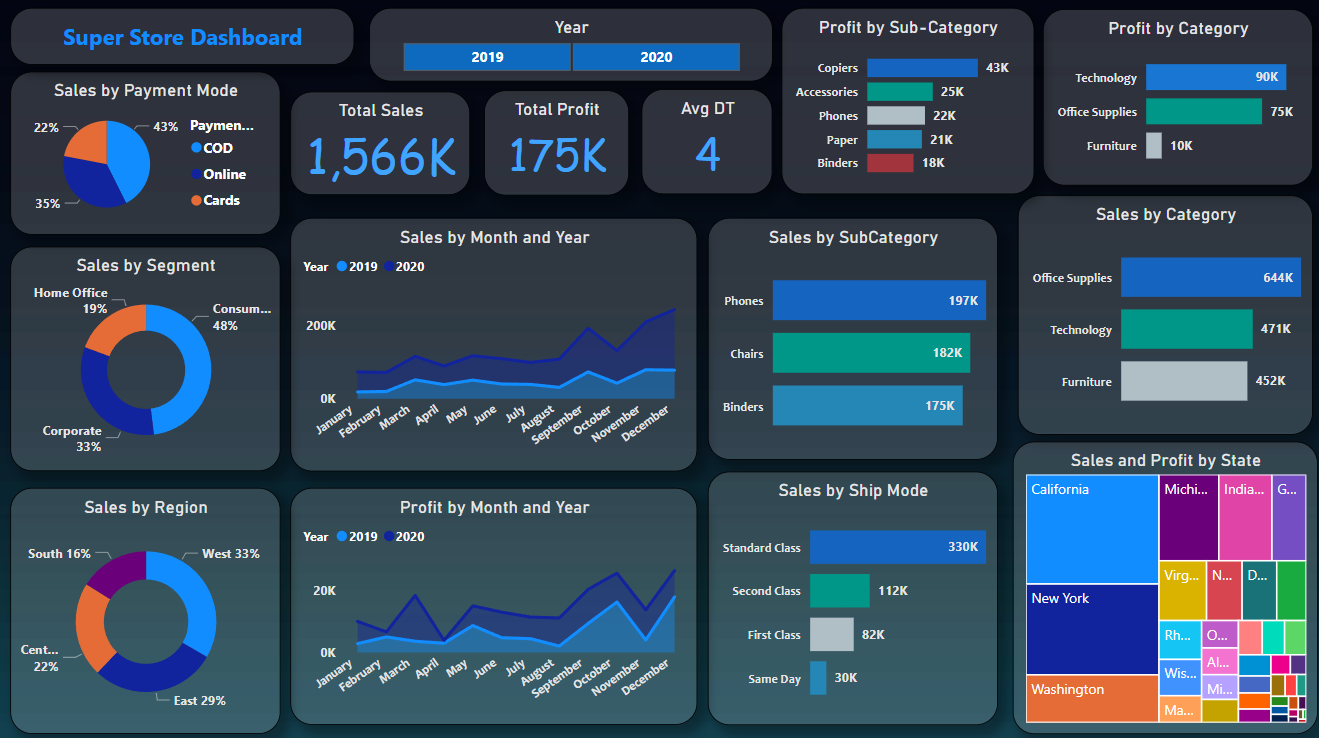

What the dashboard file says about the page in this screenshot:
{"tool":"powerbi","page":{"name":"Dashboard","canvas":[1280,720],"ordinal":0},"visuals":[{"type":"clusteredBarChart","title":"Sales by Category","fields":{"Category":["SuperStore_Sales_Dataset.Category"],"Y":["Sum(SuperStore_Sales_Dataset.Sales)"]},"box":[982.9,189.3,284.6,231.6],"z":0},{"type":"clusteredBarChart","title":"Sales by SubCategory","fields":{"Category":["SuperStore_Sales_Dataset.Sub-Category","SuperStore_Sales_Dataset.Category"],"Y":["Sum(SuperStore_Sales_Dataset.Sales)"]},"box":[683.8,211.1,279.8,234],"z":1000},{"type":"clusteredBarChart","title":"Sales by Ship Mode","fields":{"Category":["SuperStore_Sales_Dataset.Ship Mode"],"Y":["Sum(SuperStore_Sales_Dataset.Sales)"]},"box":[683.8,455.9,279.8,244.8],"z":2000},{"type":"stackedAreaChart","title":"Sales by Month and Year","fields":{"Y":["Sum(SuperStore_Sales_Dataset.Sales)"],"Category":["SuperStore_Sales_Dataset.Order Date.Variation.Date Hierarchy.Month","SuperStore_Sales_Dataset.Order Date.Variation.Date Hierarchy.Day"],"Series":["SuperStore_Sales_Dataset.Order Date.Variation.Date Hierarchy.Year"]},"box":[281,211.1,393.2,244.8],"z":3000},{"type":"stackedAreaChart","title":"Profit by Month and Year","fields":{"Category":["SuperStore_Sales_Dataset.Order Date.Variation.Date Hierarchy.Month","SuperStore_Sales_Dataset.Order Date.Variation.Date Hierarchy.Day"],"Series":["SuperStore_Sales_Dataset.Order Date.Variation.Date Hierarchy.Year"],"Y":["Sum(SuperStore_Sales_Dataset.Profit)"]},"box":[281,471.6,393.2,229.1],"z":4000},{"type":"treemap","title":"Sales and Profit by State","fields":{"Group":["SuperStore_Sales_Dataset.State"],"Values":["Sum(SuperStore_Sales_Dataset.Profit)"]},"box":[978.1,426.9,294.3,282.2],"z":5000},{"type":"donutChart","title":"Sales by Segment","fields":{"Category":["SuperStore_Sales_Dataset.Segment"],"Y":["Sum(SuperStore_Sales_Dataset.Sales)"]},"box":[10.9,238.8,260.5,217.1],"z":6000},{"type":"slicer","title":"Year","fields":{"Values":["SuperStore_Sales_Dataset.Order Date.Variation.Date Hierarchy.Year"]},"box":[357,8.4,389.5,71.2],"z":7000},{"type":"donutChart","title":"Sales by Region","fields":{"Category":["SuperStore_Sales_Dataset.Region"],"Y":["Sum(SuperStore_Sales_Dataset.Sales)"]},"box":[10.9,471.6,260.5,237.6],"z":8000},{"type":"card","title":"Total Sales","fields":{"Values":["Sum(SuperStore_Sales_Dataset.Sales)"]},"box":[281,89.2,173.7,100.1],"z":9000},{"type":"card","title":"Total Profit","fields":{"Values":["Sum(SuperStore_Sales_Dataset.Profit)"]},"box":[467.9,88,139.9,101.3],"z":10000},{"type":"pieChart","title":"Sales by Payment Mode","fields":{"Category":["SuperStore_Sales_Dataset.Payment Mode"],"Y":["Sum(SuperStore_Sales_Dataset.Sales)"]},"box":[10.9,69.9,260.5,158],"z":11000},{"type":"textbox","box":[10.9,8.4,331.7,55.5],"z":12000},{"type":"barChart","title":"Profit by Category","fields":{"Category":["SuperStore_Sales_Dataset.Category"],"Y":["Sum(SuperStore_Sales_Dataset.Profit)"]},"box":[1007,9.6,260.5,170.1],"z":13000},{"type":"card","title":"Avg DT","fields":{"Values":["Avg(SuperStore_Sales_Dataset.AvgDelivery)"]},"box":[619.9,86.8,126.6,101.3],"z":14000},{"type":"barChart","title":"Profit by Sub-Category","fields":{"Y":["Sum(SuperStore_Sales_Dataset.Profit)"],"Category":["SuperStore_Sales_Dataset.Sub-Category"]},"box":[755,8.4,243.6,179.7],"z":15000}]}

Visuals, with their boxes in screenshot pixels (x1, y1, x2, y2), scaled from the page's 1280x720 canvas onto the 1319x738 screenshot:
"Sales by Category" clusteredBarChart: pyautogui.locateOnScreen(1013, 194, 1306, 431)
"Sales by SubCategory" clusteredBarChart: pyautogui.locateOnScreen(705, 216, 993, 456)
"Sales by Ship Mode" clusteredBarChart: pyautogui.locateOnScreen(705, 467, 993, 718)
"Sales by Month and Year" stackedAreaChart: pyautogui.locateOnScreen(290, 216, 695, 467)
"Profit by Month and Year" stackedAreaChart: pyautogui.locateOnScreen(290, 483, 695, 718)
"Sales and Profit by State" treemap: pyautogui.locateOnScreen(1008, 438, 1311, 727)
"Sales by Segment" donutChart: pyautogui.locateOnScreen(11, 245, 280, 467)
"Year" slicer: pyautogui.locateOnScreen(368, 9, 769, 82)
"Sales by Region" donutChart: pyautogui.locateOnScreen(11, 483, 280, 727)
"Total Sales" card: pyautogui.locateOnScreen(290, 91, 469, 194)
"Total Profit" card: pyautogui.locateOnScreen(482, 90, 626, 194)
"Sales by Payment Mode" pieChart: pyautogui.locateOnScreen(11, 72, 280, 234)
textbox: pyautogui.locateOnScreen(11, 9, 353, 65)
"Profit by Category" barChart: pyautogui.locateOnScreen(1038, 10, 1306, 184)
"Avg DT" card: pyautogui.locateOnScreen(639, 89, 769, 193)
"Profit by Sub-Category" barChart: pyautogui.locateOnScreen(778, 9, 1029, 193)
